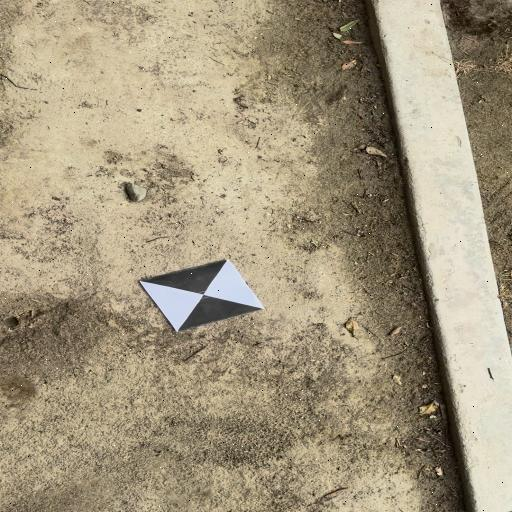target: (141, 259, 265, 331)
